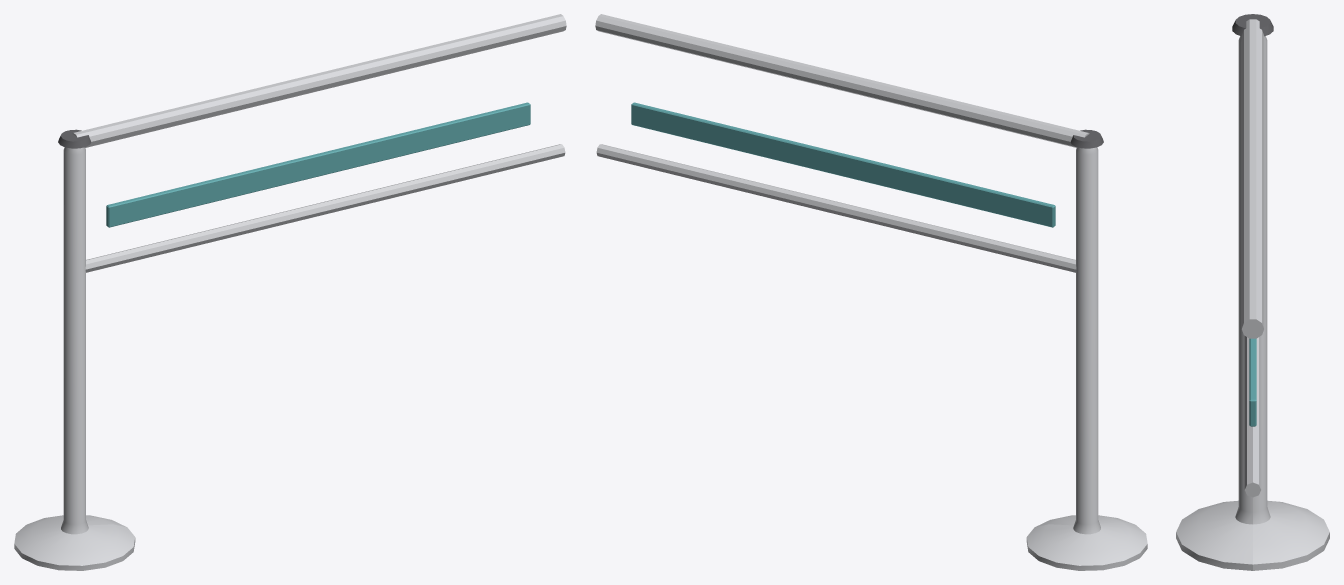
Rendered from fast-food-and-drive-thru-queue-rail-module-4e22a759__16118.glb.
The picture shows the model from 3 angles, left to right: view 1: azimuth 30°, elevation 25°; view 2: azimuth 150°, elevation 25°; view 3: azimuth 270°, elevation 25°; orthographic projection. The views are drawn at different scales.
Visible parts, largest first — view 1: queue-rail-module; view 2: queue-rail-module; view 3: queue-rail-module.
Part boxes in pixels (x1,y1,x2,y2): queue-rail-module: (14, 14, 566, 570); queue-rail-module: (595, 14, 1147, 570); queue-rail-module: (1176, 14, 1329, 570).
Size of the model in its own units: 1.33 by 0.9681 by 0.2599.
